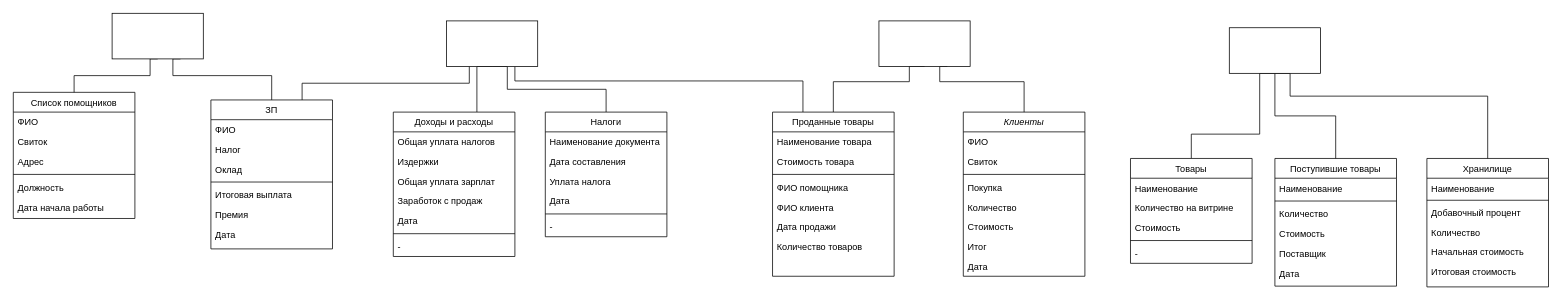
This 1562x300 diagram has some shape labels left out. The shapes that lost their labels are listed below. From the top down, each one's centre as x and y in pixels, then its label:
the point at 157,36: Помощники
the point at 492,43: Бюджет
the point at 924,43: Продажа
the point at 1274,50: Учёт материалов
